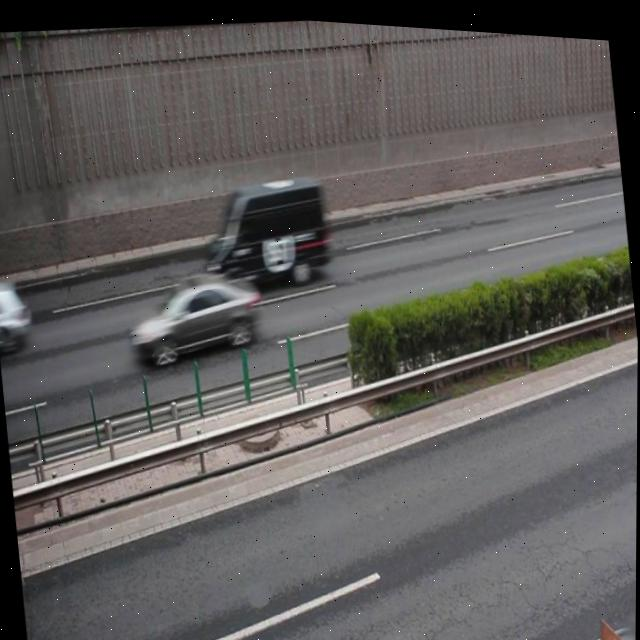car: (125, 265, 264, 368)
truck: (196, 163, 334, 292)
